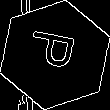P_E: (25, 32, 85, 78)
